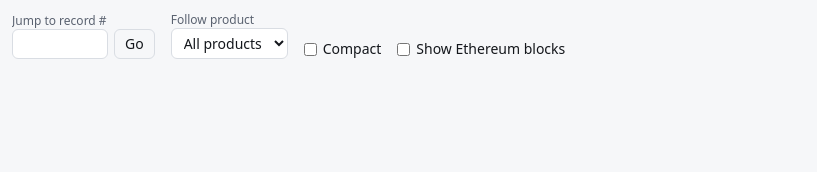
Test case: ChainControls › rejects  with a helpful message
Click the button "Go" at (134, 44), box 114,29 -> 155,59
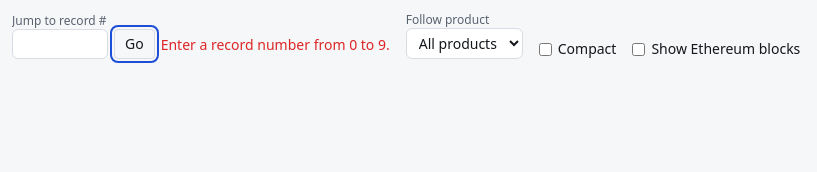
Now the message shows "0 to 9", box 161,35 -> 390,54
